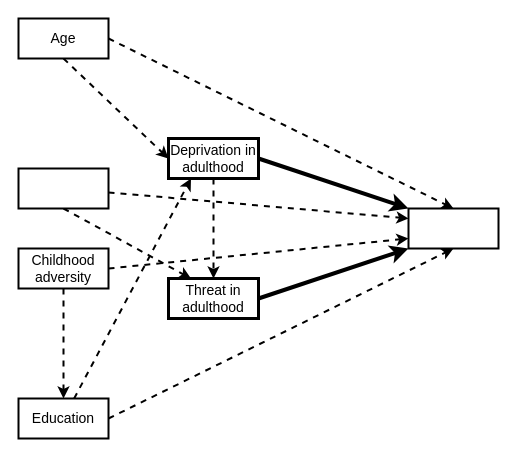
Some shapes in this 516 by 456 pixel diagram are drawn without their labels. Here are the shapes that lost their labels. From the top down, the centre of each, then its label:
the point at 63,188: Sex
the point at 453,228: Cognitive performance
